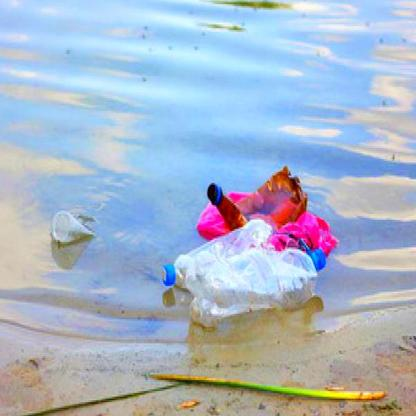plastic bag: (201, 188, 338, 254)
plastic bottle: (161, 184, 324, 311)
